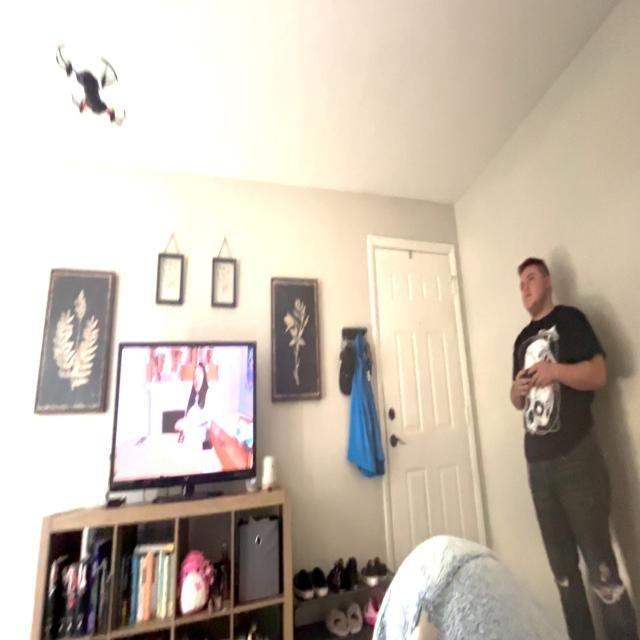drone: (49, 30, 135, 138)
